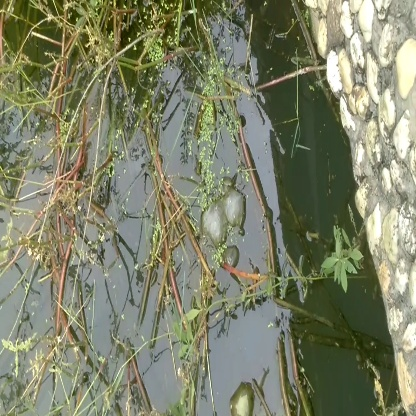plastic-bag: (198, 182, 248, 261)
